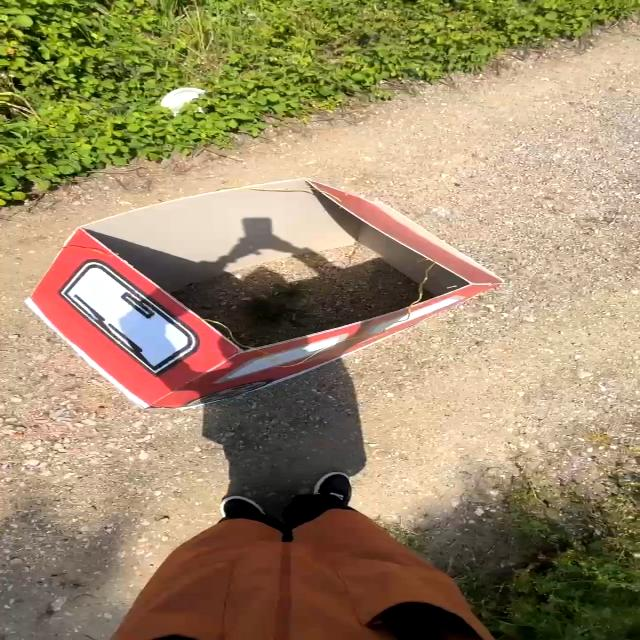red_car: (0, 159, 569, 442)
